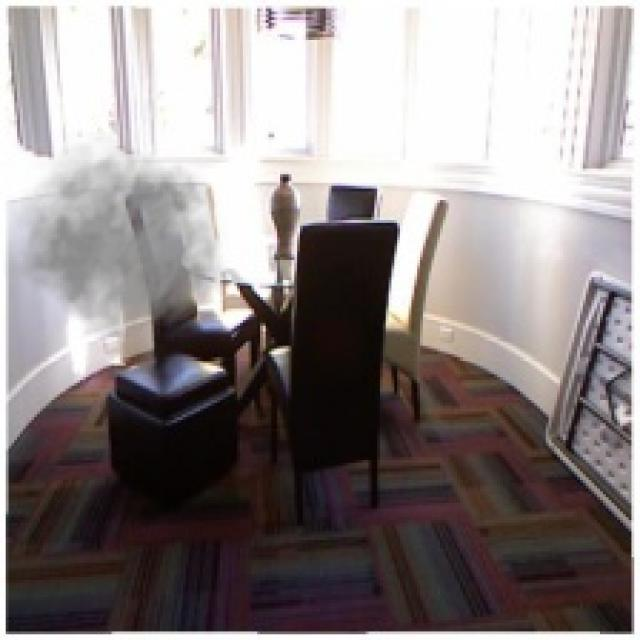smoke: (3, 131, 228, 340)
